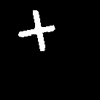single_crochet: (18, 11, 54, 50)
